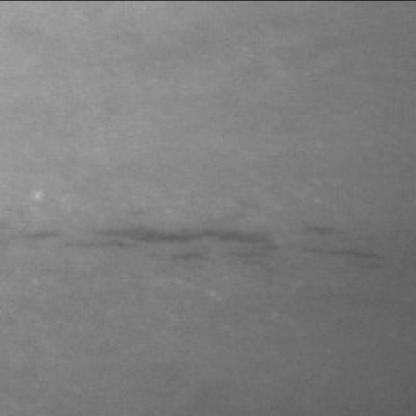inclusion: (35, 216, 296, 279), (289, 223, 393, 268)
